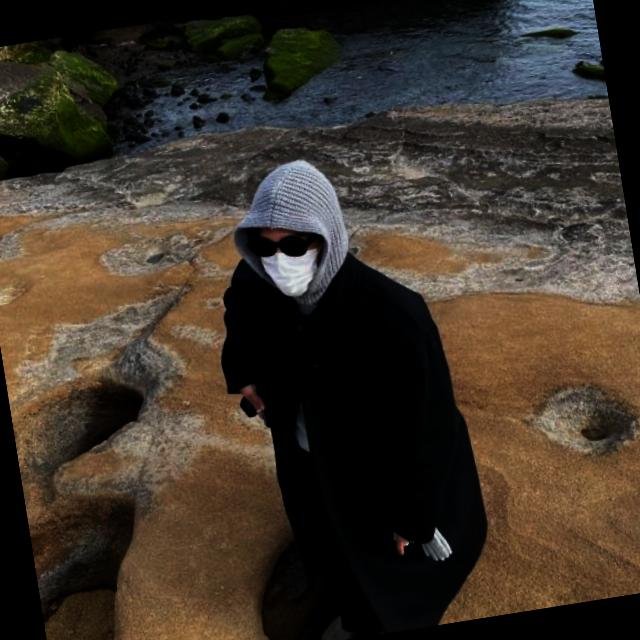coat: (204, 223, 502, 640)
